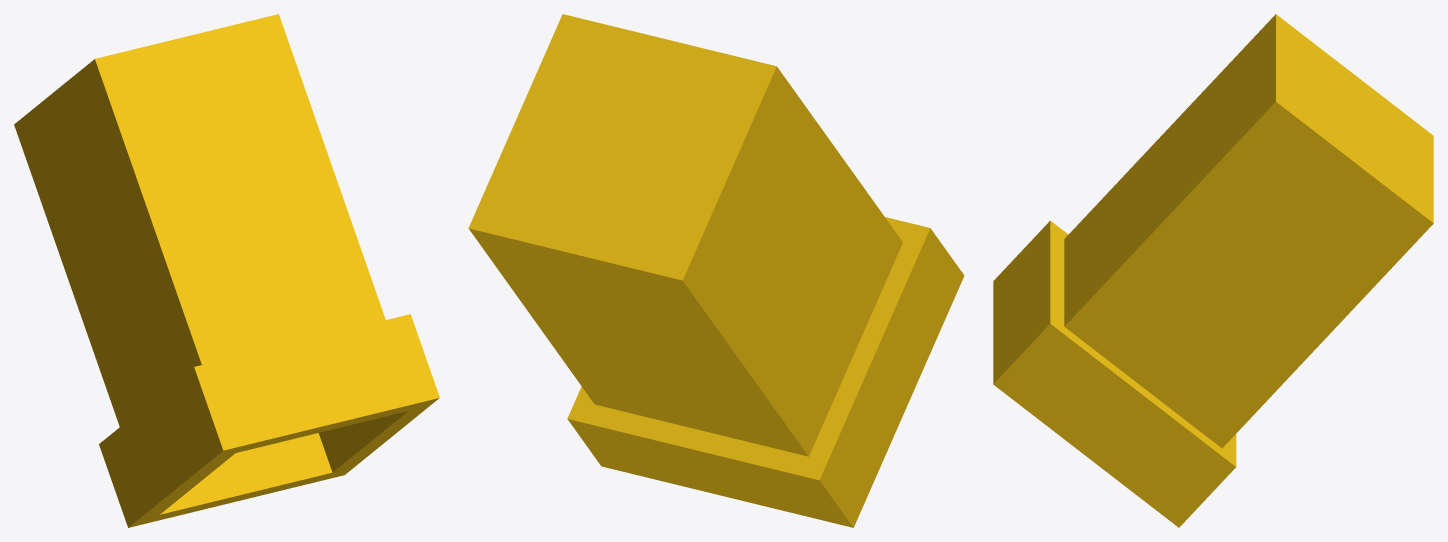
The model's file is gr_boxChute.fbx.
3 renders of one model, left to right at view 1: azimuth 30°, elevation 25°; view 2: azimuth 150°, elevation 25°; view 3: azimuth 270°, elevation 25°, orthographic. The views are drawn at different scales.
Parts seen in each view (by area): view 1: BoxChute.002; view 2: BoxChute.002; view 3: BoxChute.002.
Boxes of the visible parts, x1=… form: BoxChute.002: x1=14, y1=14, x2=439, y2=527; BoxChute.002: x1=468, y1=14, x2=964, y2=527; BoxChute.002: x1=993, y1=14, x2=1433, y2=527.
Bounding box in the file's own units: 143 × 270 × 257.
